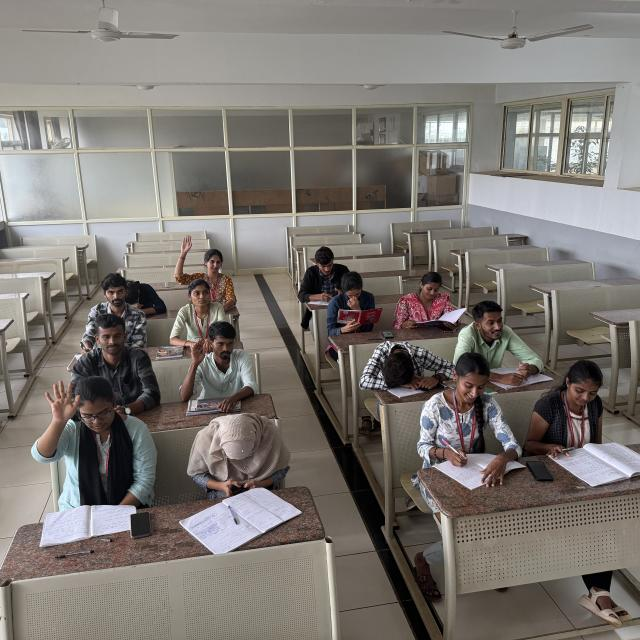Hand Rising: (31, 376, 152, 504), (169, 235, 232, 302)
Reading: (534, 356, 626, 469), (395, 269, 468, 329), (330, 274, 382, 333)
Sleeping: (357, 336, 450, 390), (118, 274, 168, 318)
Using Phone: (190, 406, 292, 490)
Writing: (421, 356, 522, 484), (76, 273, 146, 351), (301, 245, 354, 306)
